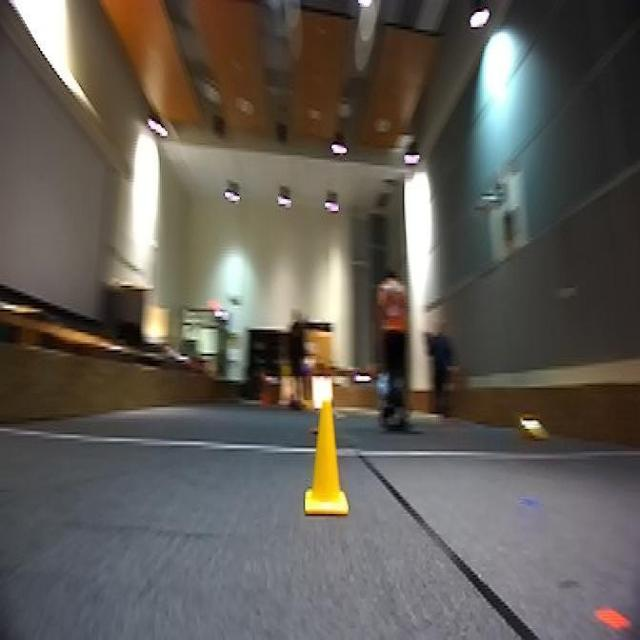frc_cone: (301, 400, 352, 521), (519, 414, 546, 444)
